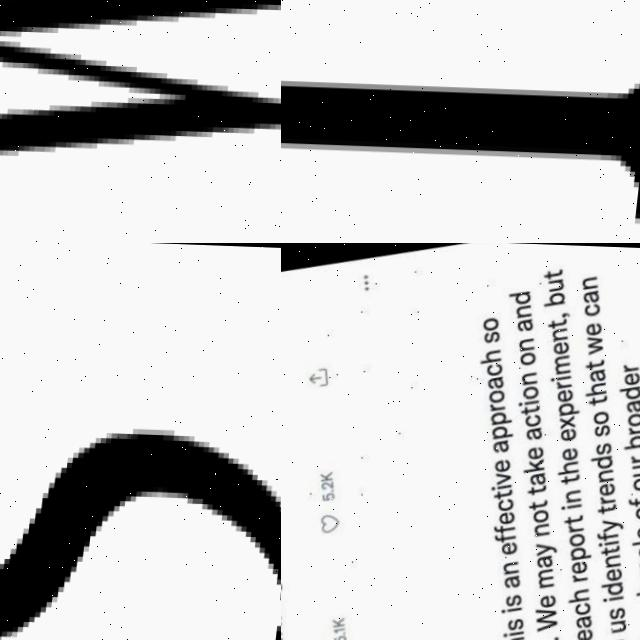1: (341, 625, 356, 633)
2: (325, 479, 340, 490)
5: (326, 491, 341, 500), (341, 633, 356, 640)
D: (281, 0, 640, 225)
S: (0, 354, 281, 640)
W: (0, 0, 281, 219)
